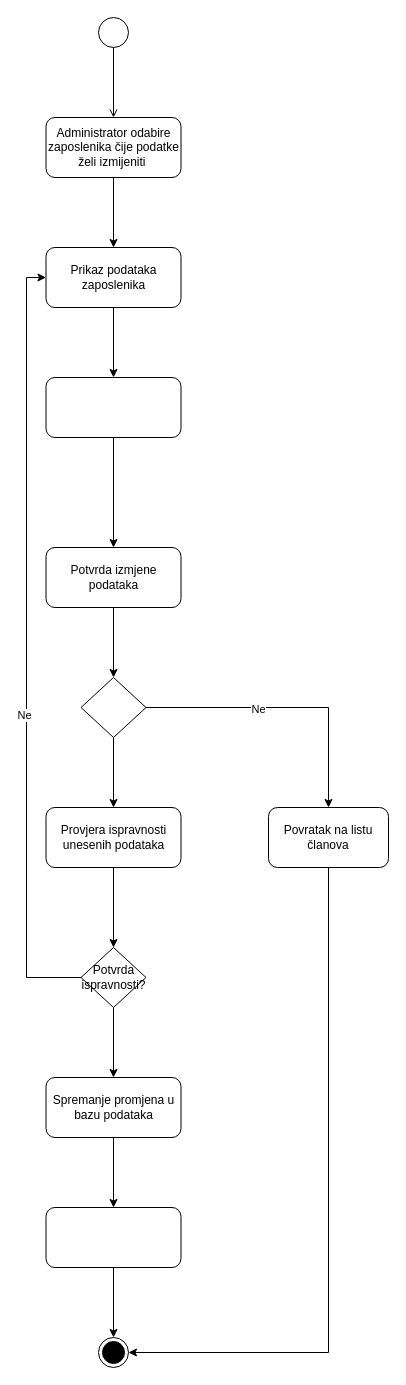
The diagram is 406 pixels wide and 1385 high, and some of its shapes have lost their labels. The shapes that lost their labels are listed below. From the top down, each one's centre as x and y in pixels, then its label:
the point at 113,407: Izmjena željenih podataka
the point at 113,707: Potvrda izmjene?
the point at 113,1237: Sustav prikazuje poruku o uspješnom ažuriranju zaposlenika
